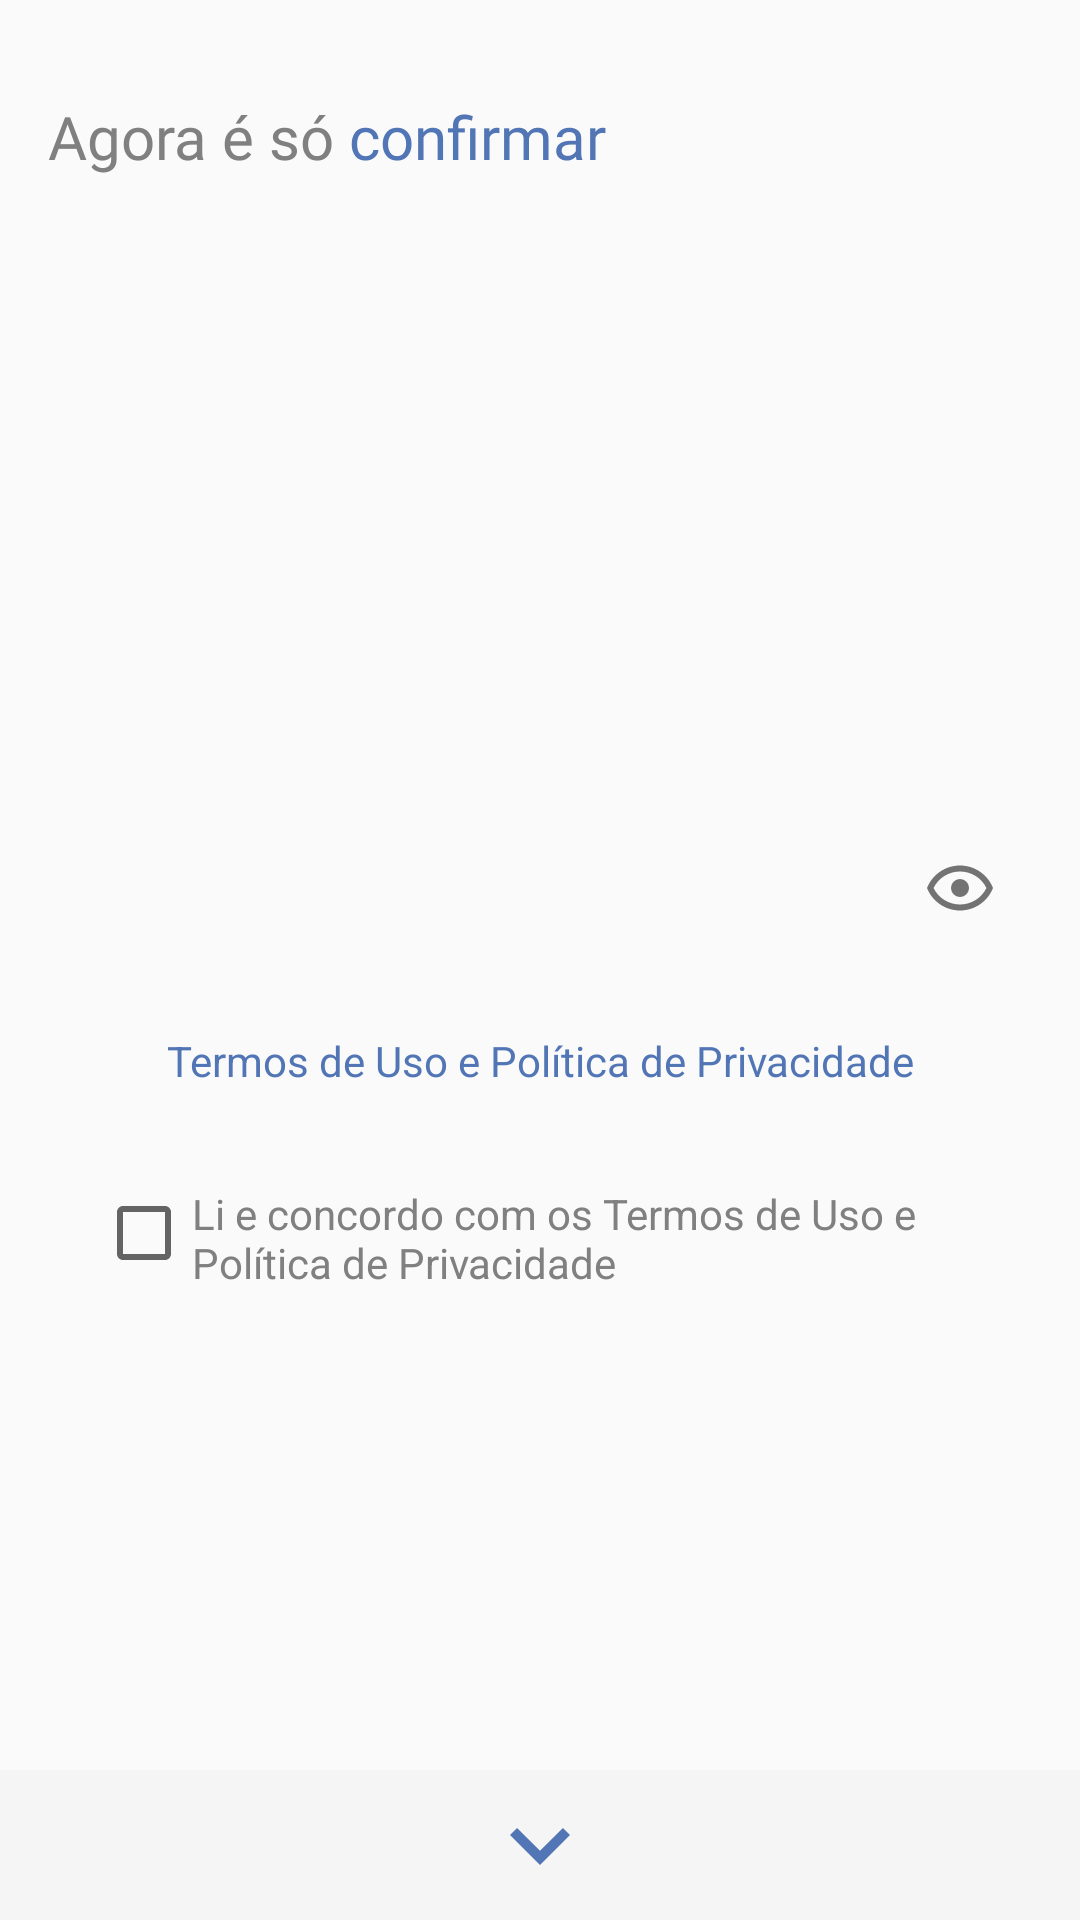

Where to tap for icons on this 1080x1920 app screen, as (x=x, y=y):
chevron down: (x=540, y=1846)
